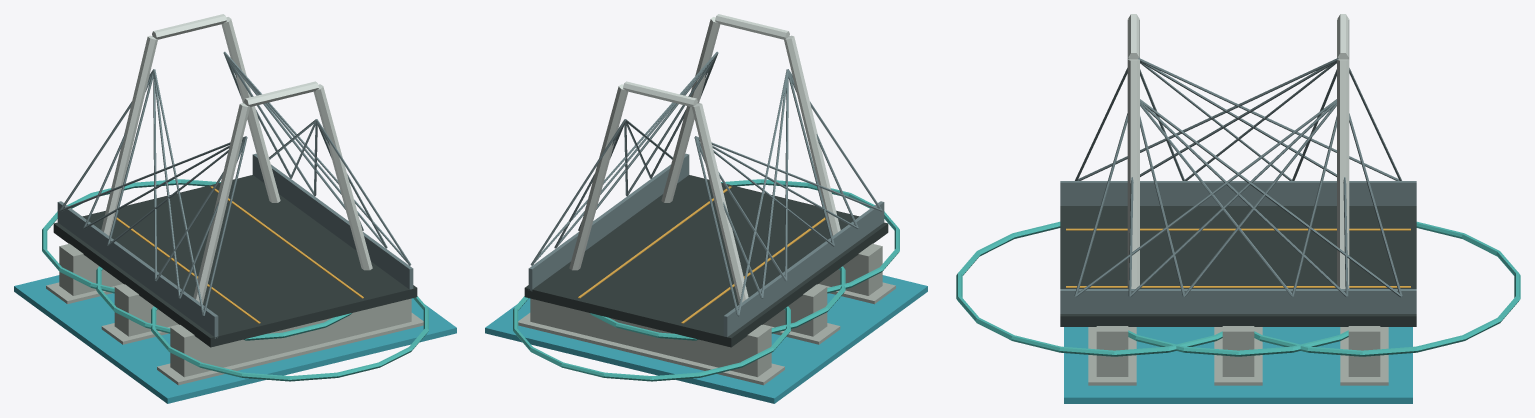
File: bridge_lv4.glb
3 views of the same model, side by side, from view 1: azimuth 30°, elevation 25°; view 2: azimuth 150°, elevation 25°; view 3: azimuth 270°, elevation 25° (orthographic). The views are drawn at different scales.
Parts seen in each view (by area): view 1: asphalt, steel, concrete, water, white, turquoise, gold; view 2: asphalt, steel, concrete, water, white, turquoise, gold; view 3: steel, asphalt, water, concrete, turquoise, white, gold.
Part boxes in pixels (x1,y1,x2,y2): asphalt: (53, 175, 417, 347); steel: (57, 51, 413, 338); concrete: (46, 243, 423, 385); water: (14, 275, 456, 403); white: (101, 14, 372, 304); turquoise: (42, 179, 428, 381); gold: (116, 186, 363, 323); asphalt: (524, 175, 888, 347); steel: (528, 51, 884, 337); concrete: (518, 243, 895, 385); water: (485, 275, 927, 403); white: (569, 14, 840, 304); turquoise: (513, 179, 899, 381); gold: (578, 186, 825, 323); steel: (1060, 58, 1416, 313); asphalt: (1060, 206, 1416, 326); water: (1064, 327, 1412, 403); concrete: (1088, 326, 1388, 385); turquoise: (956, 221, 1520, 356); white: (1127, 14, 1349, 288); gold: (1066, 228, 1410, 287).
Size of the model in its own units: 9.8 by 8.26 by 14.55.
